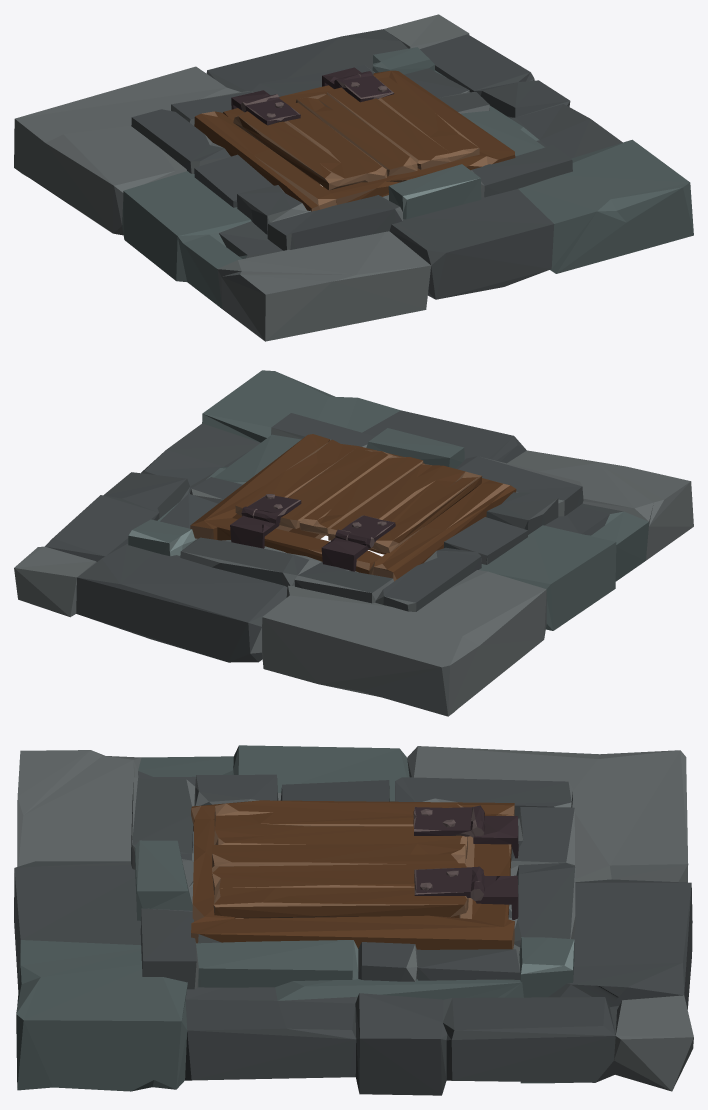
The model's file is MDungenon_StoneFloor_TrapDoor.FBX.
3 views of the same model, one above another, from view 1: azimuth 30°, elevation 25°; view 2: azimuth 150°, elevation 25°; view 3: azimuth 270°, elevation 25° (orthographic). The views are drawn at different scales.
Visible parts, largest first — view 1: MDungenon_StoneFloor_TrapDoor_LOD0, MDungenon_StoneFloor_Hatch_LOD0; view 2: MDungenon_StoneFloor_TrapDoor_LOD0, MDungenon_StoneFloor_Hatch_LOD0; view 3: MDungenon_StoneFloor_TrapDoor_LOD0, MDungenon_StoneFloor_Hatch_LOD0.
Part boxes in pixels (box(x1,y1,x2,y2)): MDungenon_StoneFloor_TrapDoor_LOD0: box(14, 14, 693, 341); MDungenon_StoneFloor_Hatch_LOD0: box(233, 71, 479, 190); MDungenon_StoneFloor_TrapDoor_LOD0: box(14, 370, 693, 716); MDungenon_StoneFloor_Hatch_LOD0: box(235, 439, 482, 552); MDungenon_StoneFloor_TrapDoor_LOD0: box(14, 745, 693, 1095); MDungenon_StoneFloor_Hatch_LOD0: box(212, 803, 485, 917).
Size of what is drawn, in the model's own units: 6.03 by 1.46 by 6.03.
